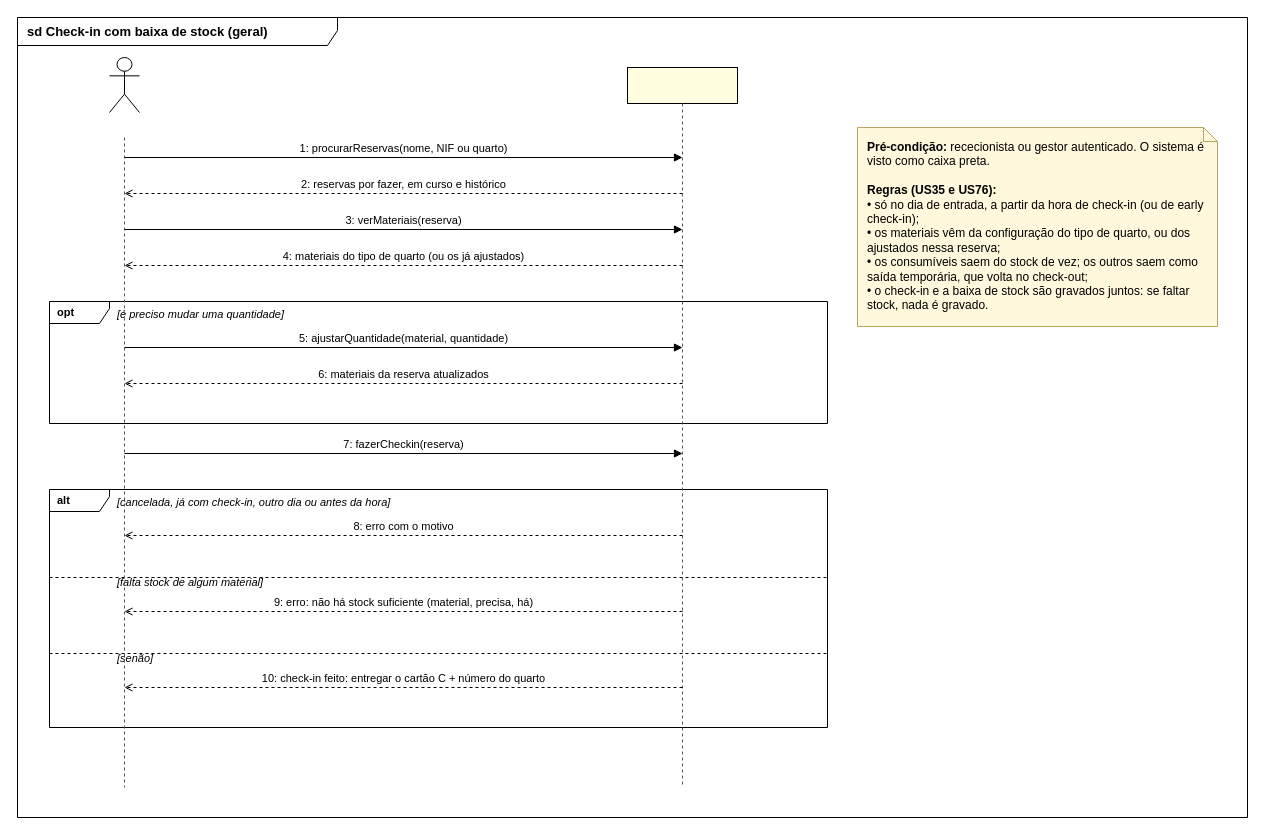
Some shapes in this 1265 by 835 pixel diagram are drawn without their labels. Each missing label, with the centre of its shape:
:Sistema: the point at 682,85
Rececionista: the point at 124,84
